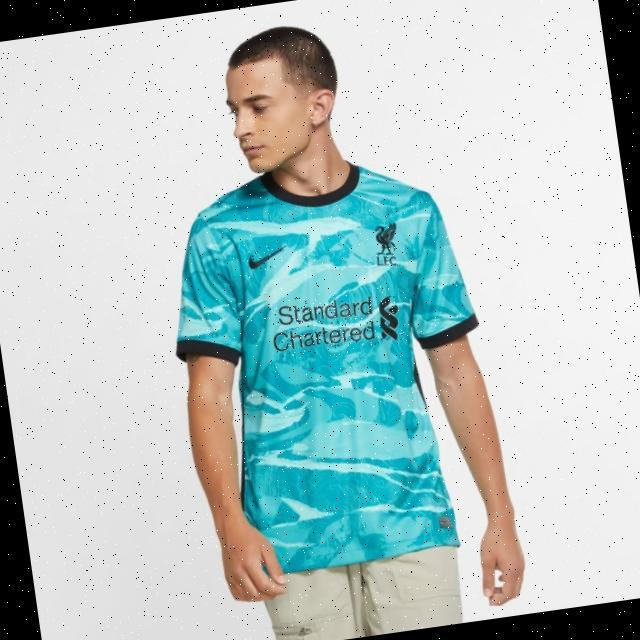Nike: (246, 243, 289, 271)
Standard Chartered: (266, 283, 404, 359)
